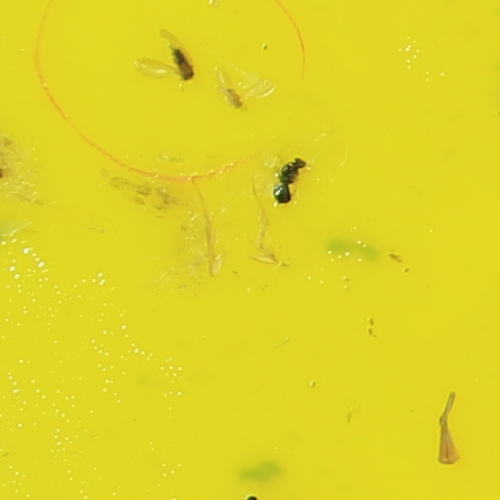psylla: (173, 49, 198, 82)
